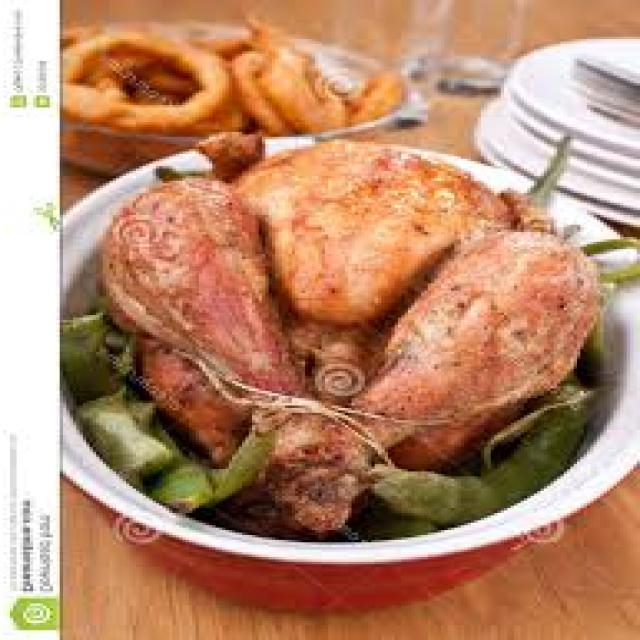Chicken Wings: (315, 230, 613, 528), (113, 188, 275, 496)
Onion Rings: (66, 10, 441, 154)
